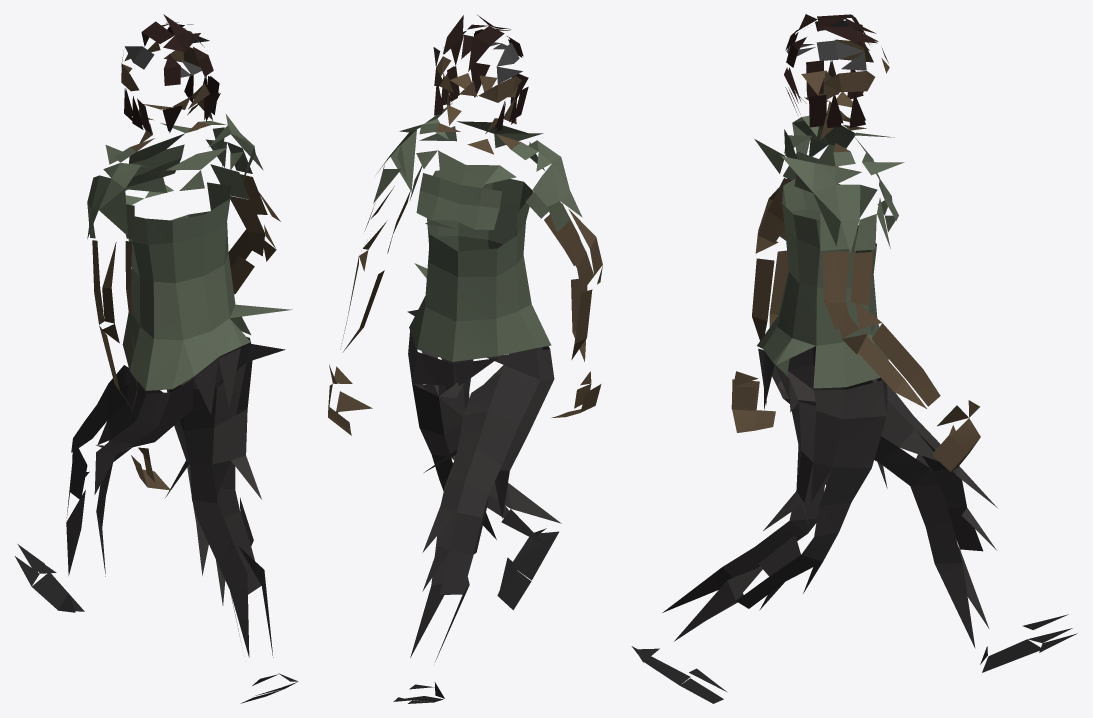
The model's file is personfar_7_w1.fbx.
3 renders of one model, left to right at view 1: azimuth 30°, elevation 25°; view 2: azimuth 150°, elevation 25°; view 3: azimuth 270°, elevation 25°, orthographic. The views are drawn at different scales.
Parts seen in each view (by area): view 1: Female; view 2: Female; view 3: Female.
Part boxes in pixels (x1,y1,x2,y2): Female: (15,14,298,703); Female: (328,15,602,703); Female: (631,14,1077,703).
Bounding box in the file's own units: 0.3268 × 0.9855 × 0.59.
